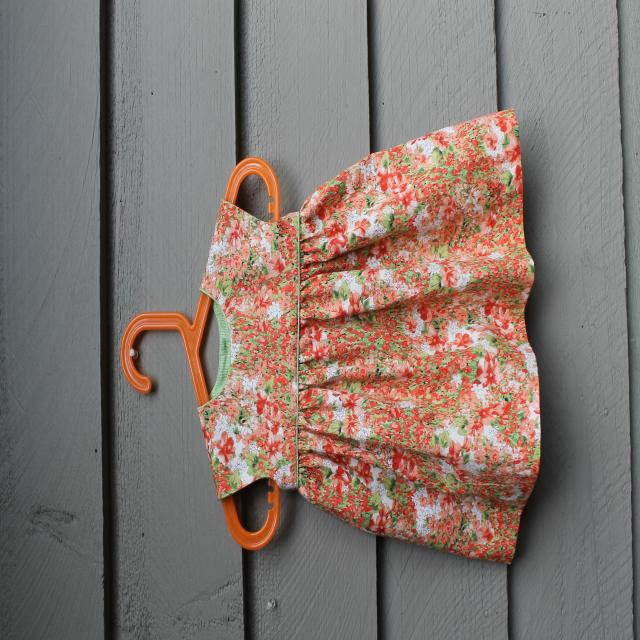Dress: (42, 299, 363, 640)
